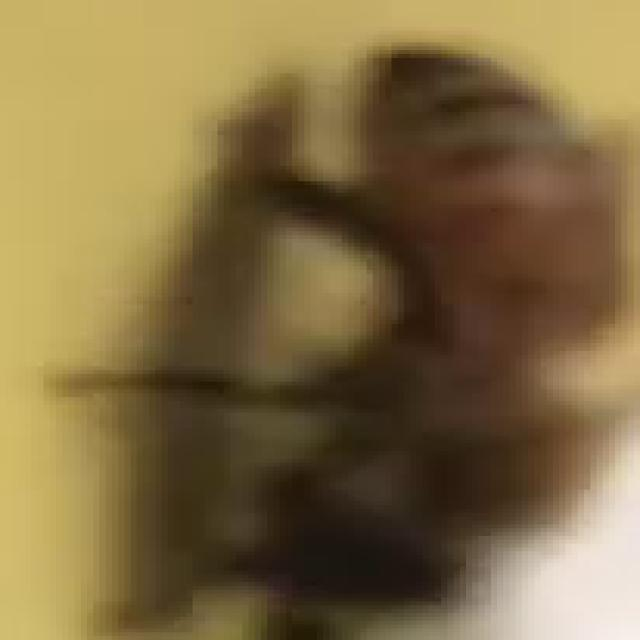honeybee: (89, 69, 640, 640)
